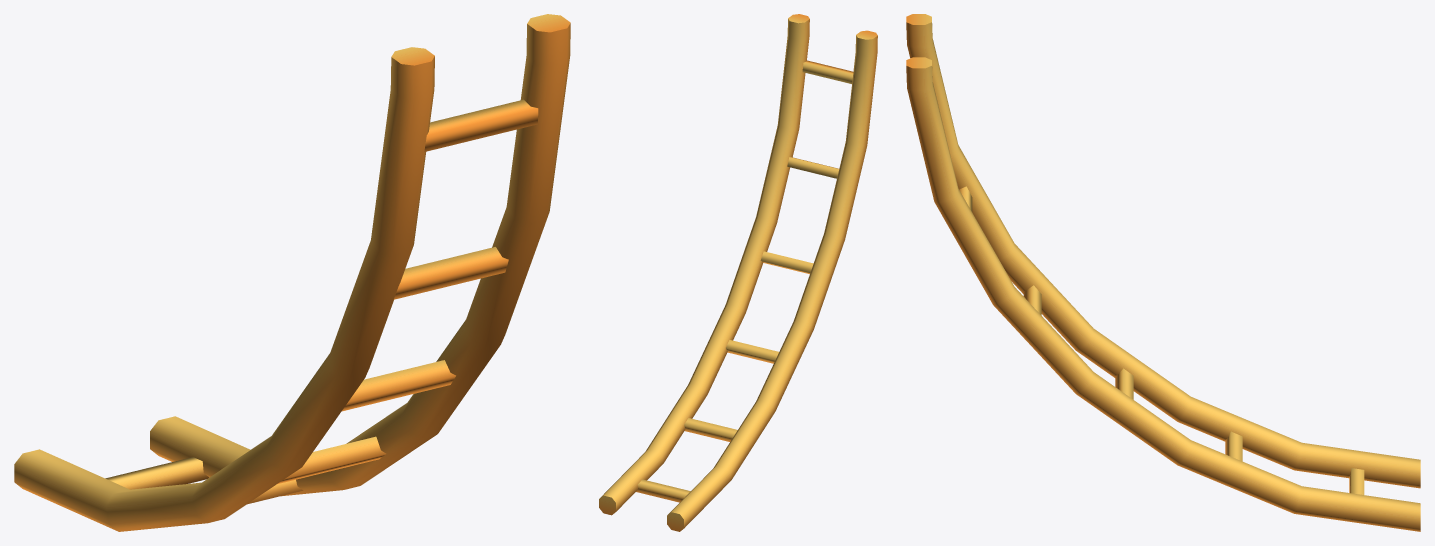
Rendered from coaster-mouse-straight-bend.glb.
The picture shows the model from 3 angles, left to right: view 1: azimuth 30°, elevation 25°; view 2: azimuth 150°, elevation 25°; view 3: azimuth 270°, elevation 25°; orthographic projection. The views are drawn at different scales.
Parts seen in each view (by area): view 1: coaster-mouse-straight-bend; view 2: coaster-mouse-straight-bend; view 3: coaster-mouse-straight-bend.
Boxes of the visible parts, x1,y1,x2,y2 form: coaster-mouse-straight-bend: (14, 14, 570, 531); coaster-mouse-straight-bend: (599, 14, 877, 531); coaster-mouse-straight-bend: (906, 14, 1420, 531).
Bounding box in the file's own units: 0.5001 × 2 × 2.
Materials: 1 (1 with a texture image).
